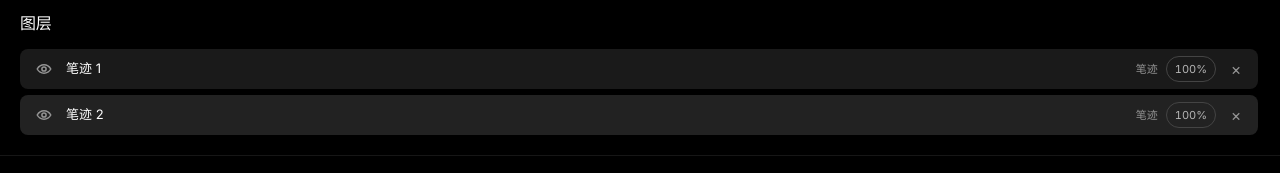
it: 图层行内重命名 › Enter 提交：PATCH 只带 name 与 expectedRevision，成功后名称来自快照
The image size is (1280, 173).
Double-click the text "笔迹 1" at point(84, 68), box [66, 60, 101, 76]
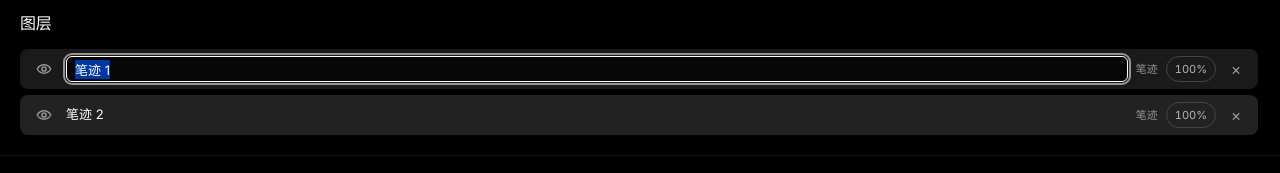
# 首尾空白与连续空白在提交前归一化。
Replace the text in the field named "重命名 笔迹 1" with "  背  景  " at point(597, 69), box [66, 56, 1128, 82]
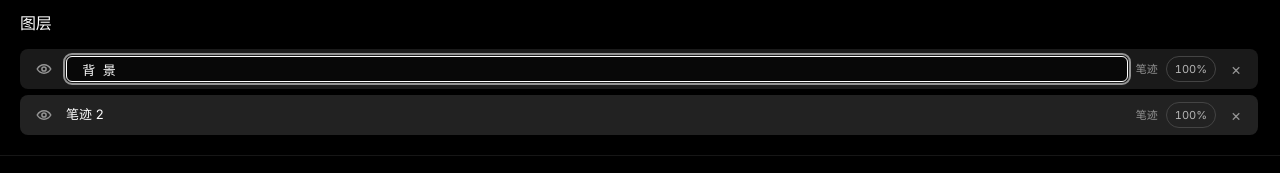
Press Enter in the field named "重命名 笔迹 1", box [66, 56, 1128, 82]
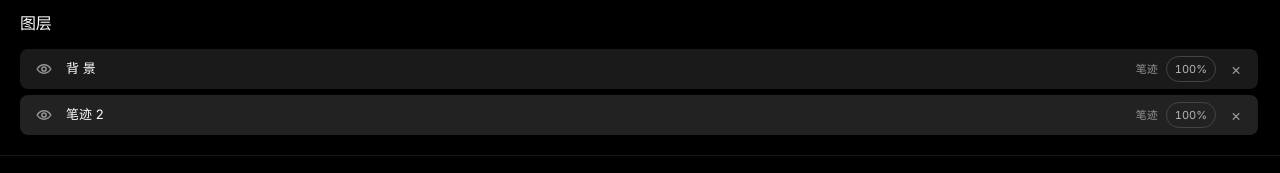
Now the text "背 景" is shown, box [66, 60, 96, 76]
